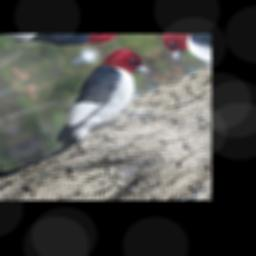Woodpecker: (17, 43, 181, 161)
